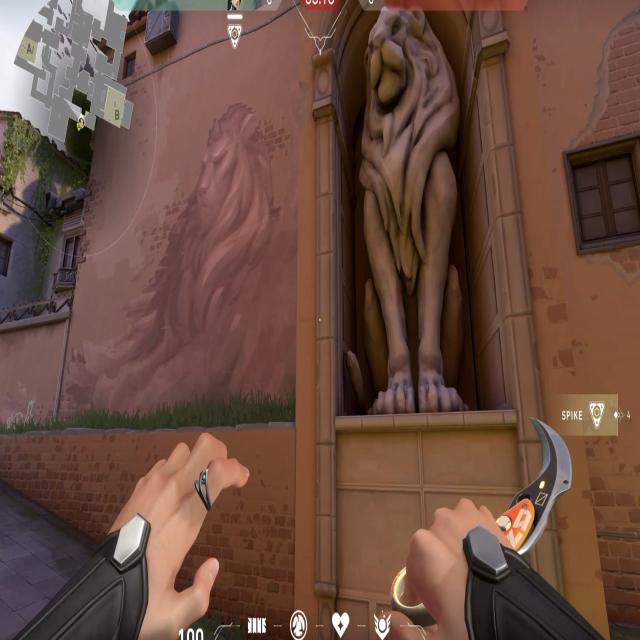Lion_Corner: (314, 0, 530, 479)
